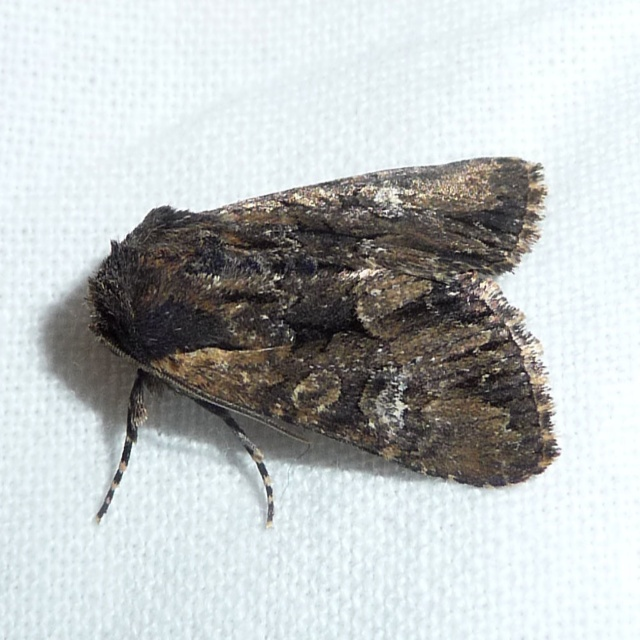Moths and butterflies: (80, 151, 563, 531)
